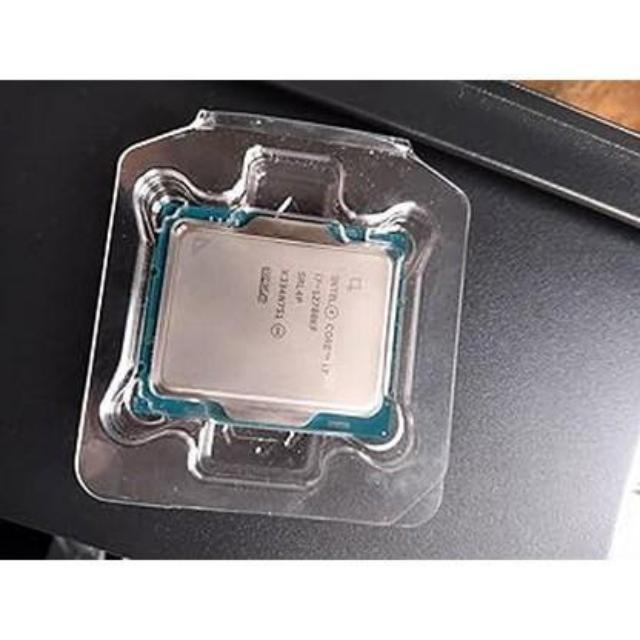CPU: (132, 202, 400, 444)
